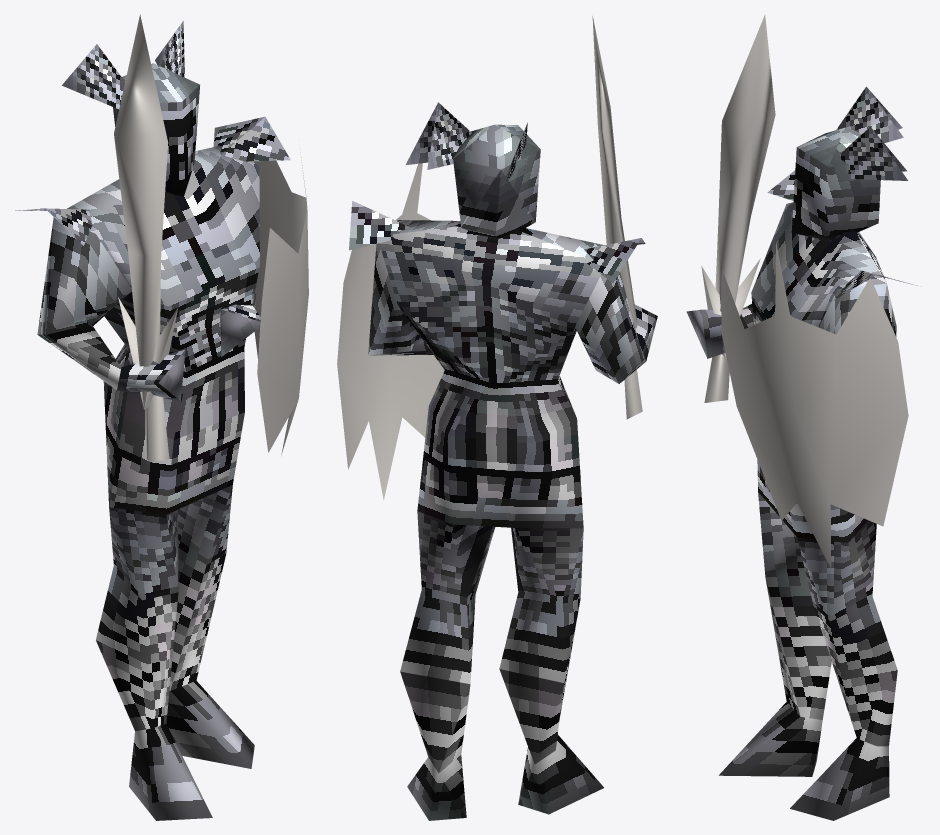
File: attack.glb
3 views of the same model, side by side, from view 1: azimuth 30°, elevation 25°; view 2: azimuth 150°, elevation 25°; view 3: azimuth 270°, elevation 25° (orthographic). The views are drawn at different scales.
Parts seen in each view (by area): view 1: MeshRoot; view 2: MeshRoot; view 3: MeshRoot.
Boxes of the visible parts, <box> form: MeshRoot: <box>15,14,308,820</box>; MeshRoot: <box>337,16,657,820</box>; MeshRoot: <box>686,14,917,820</box>.
Size of the model in its own units: 1.08 by 3.09 by 0.9062.
4 materials, 2 textured.
